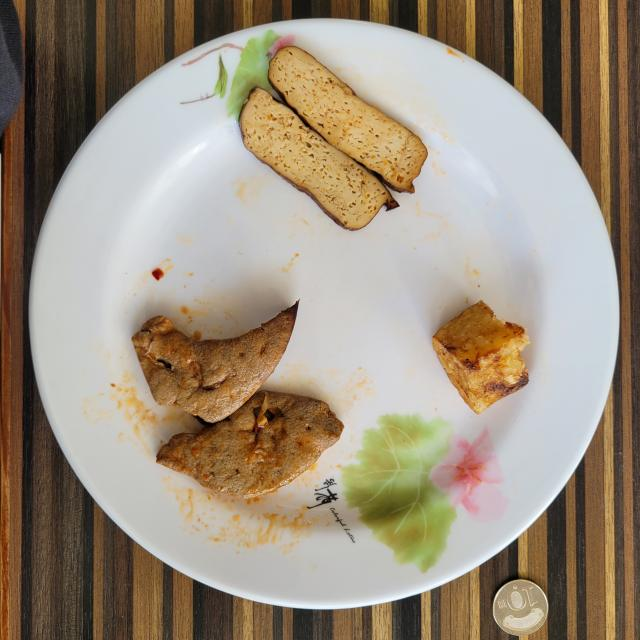coin: (494, 580, 549, 636)
firm tofu: (240, 46, 428, 230)
fried potato: (432, 301, 530, 414)
pig liver: (132, 301, 342, 498)
